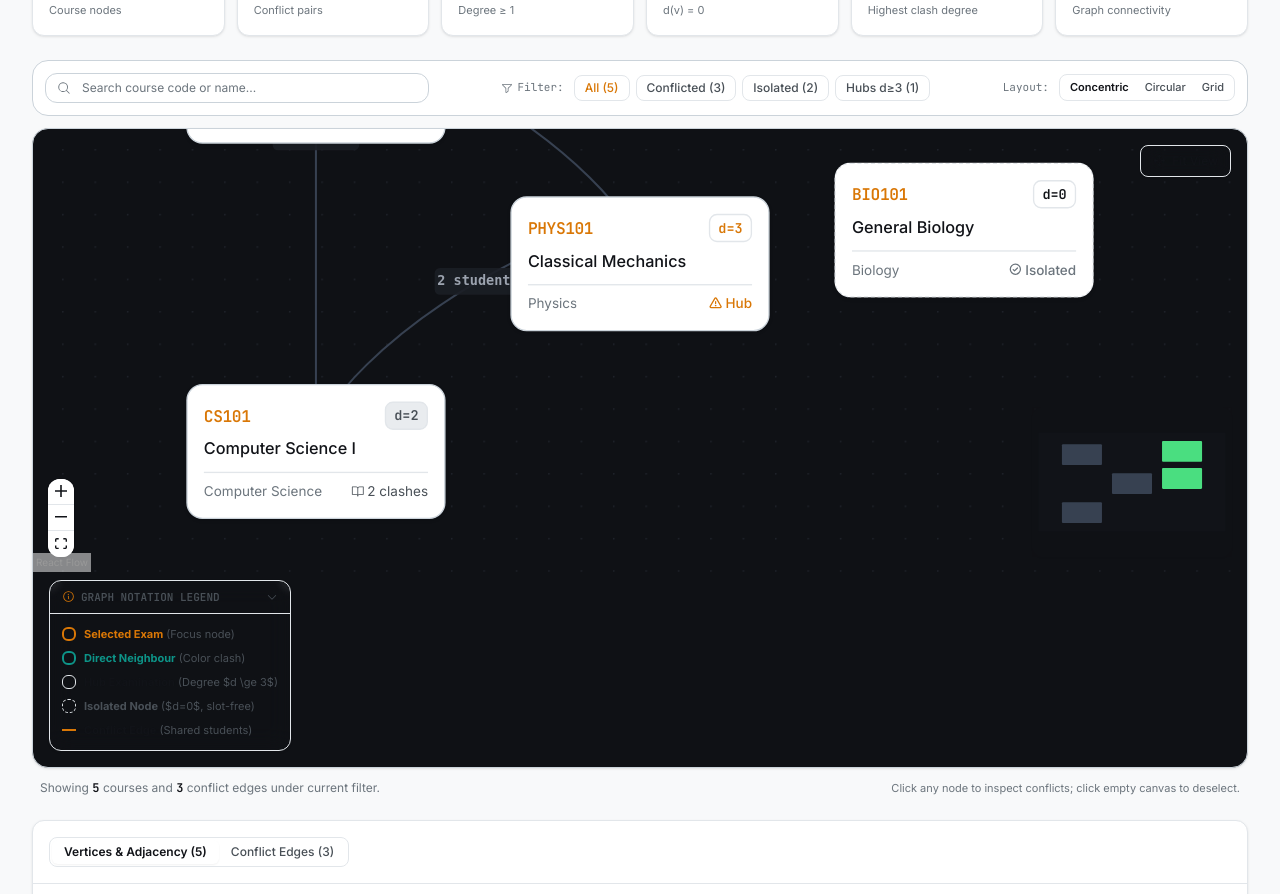
Test case: Phase 6: Conflict Graph Explorer › ConflictGraphPage UI & Interactions › opens details panel when a node is clicked and shows conflicting courses and rosters
The width and height of the screenshot is (1280, 894).
(page scrolled)
# Click CS101 node
Click the element with test id "exam-node-CS101" at (316, 451), box [186,384,446,518]
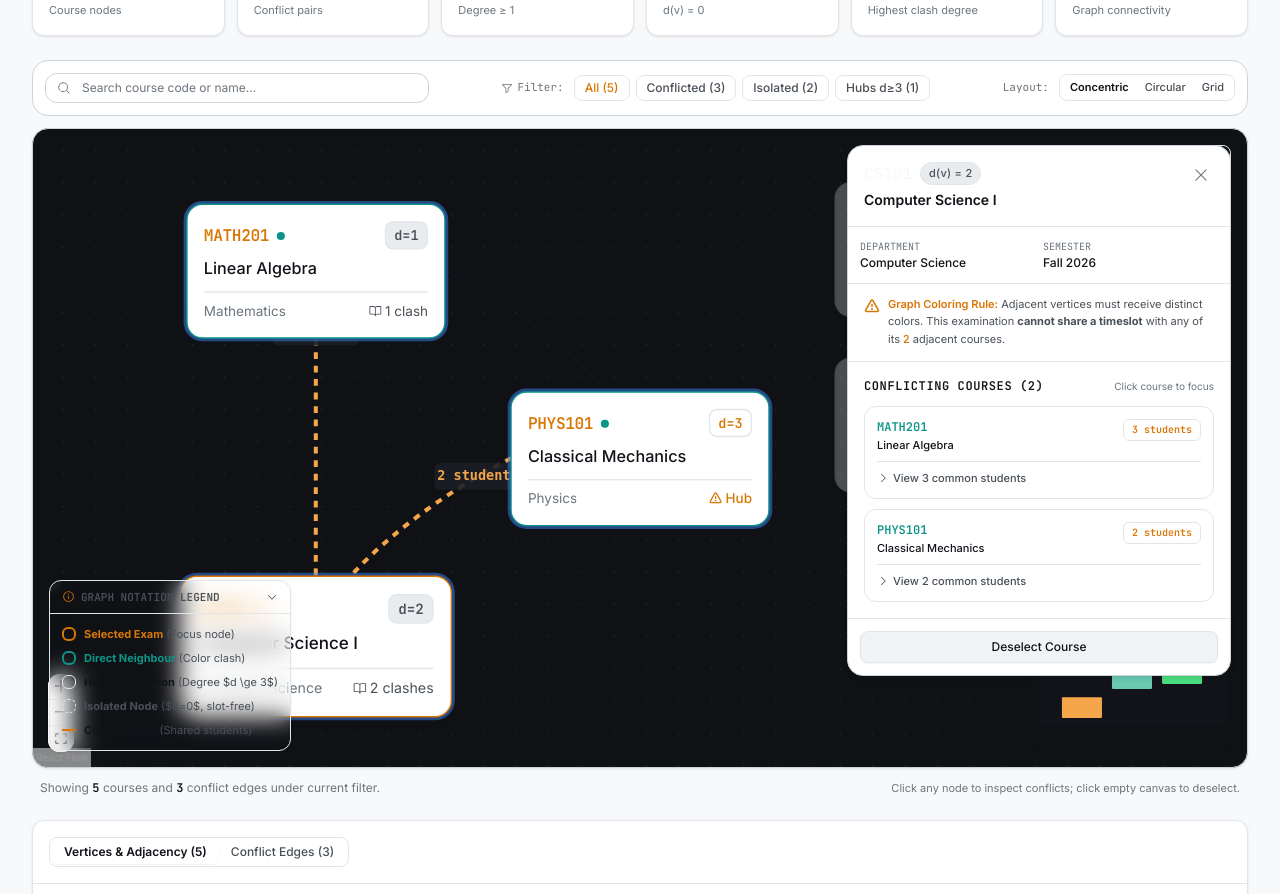
Expected: the element with test id "graph-details-panel" is shown, [847,144,1231,676]
Expected: the heading "Computer Science I" is shown, [864,190,996,210]
Expected: the text "d(v) = 2" is shown, [920,162,981,185]
# Expand shared student roster
Click the button "View 3 common students" at (952, 478), box [877,470,1026,486]
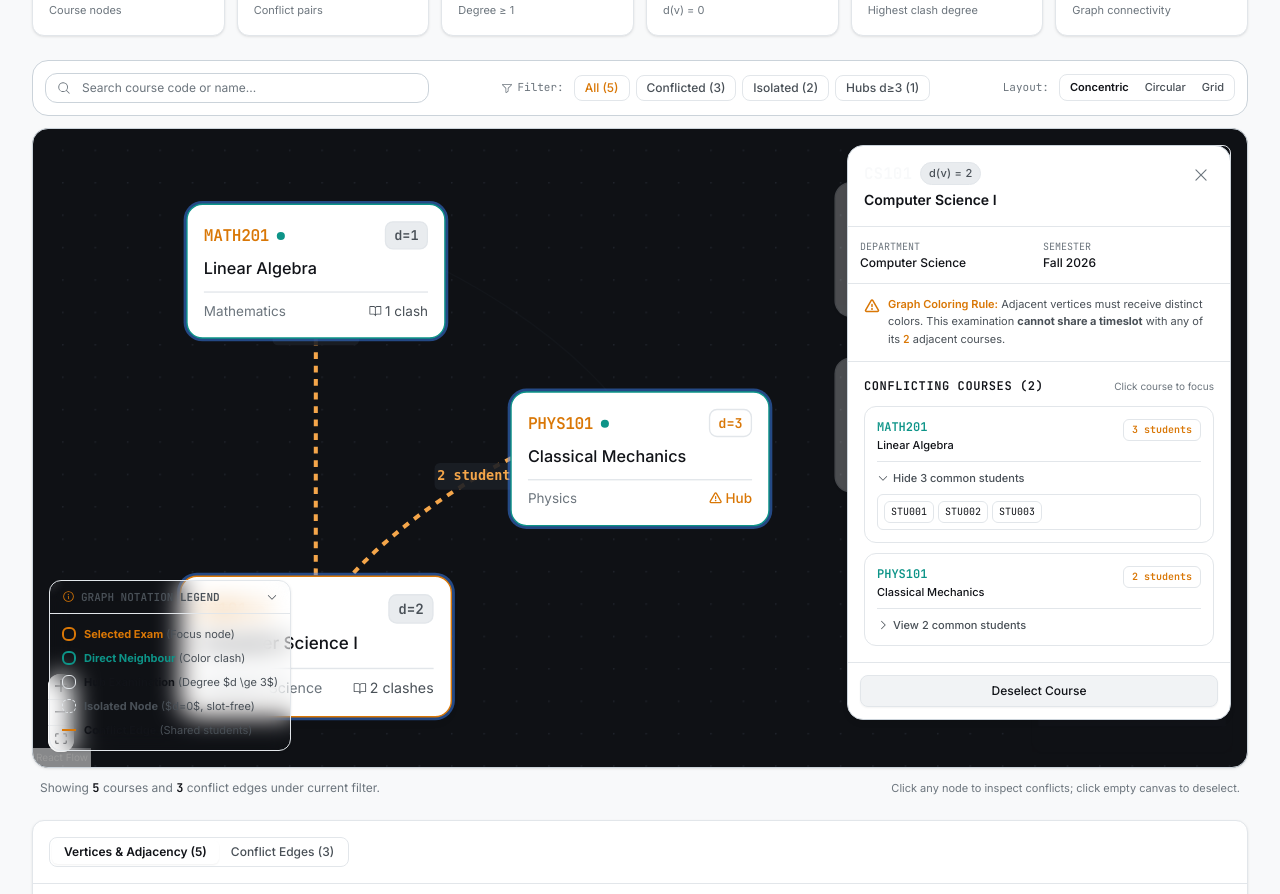
Expected: the text "STU001" is shown, [884,501,934,523]
Expected: the text "STU002" is shown, [938,501,988,523]
Expected: the text "STU003" is shown, [992,501,1042,523]
# Close details panel
Click the button "Deselect Course" at (1039, 691), box [860,675,1218,707]
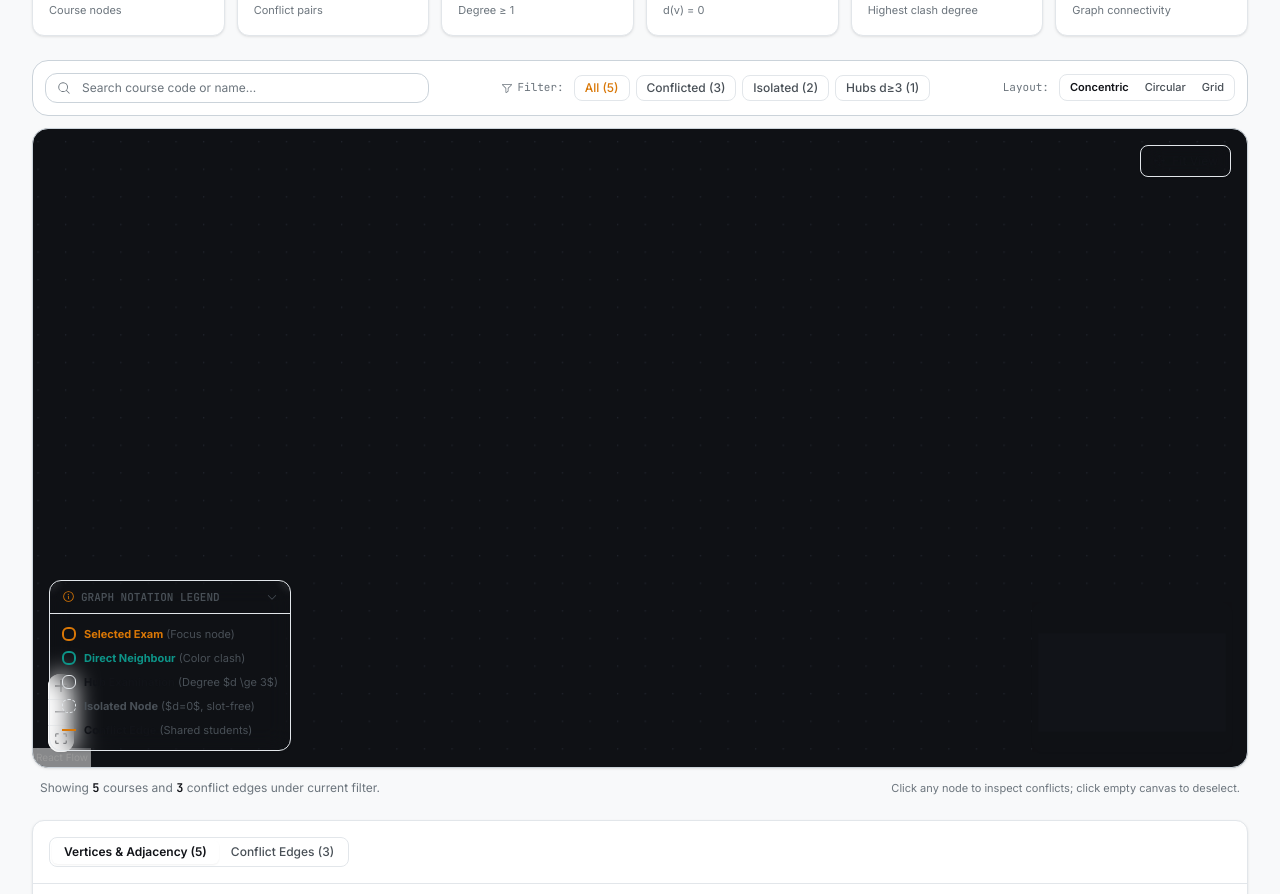
Expected: the element with test id "graph-details-panel" is gone
